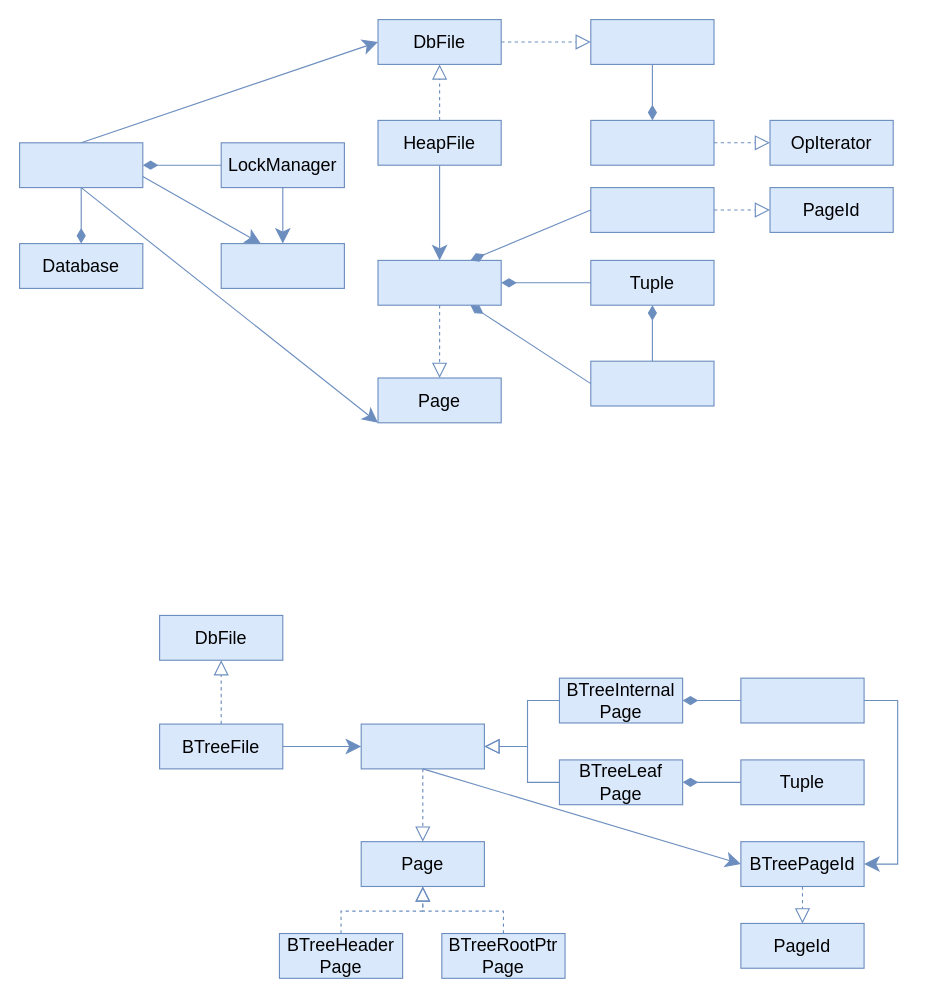
Some shapes in this 932 by 998 pixel diagram are drawn without their labels. Here are the shapes that lost their labels. From the top down, the box of each, then its label:
(590, 18, 714, 64): DbFileIterator
(590, 119, 714, 165): SeqScan
(18, 142, 143, 188): BufferPool
(590, 186, 714, 232): HeapPageId
(220, 242, 344, 288): TransactionId
(377, 259, 501, 305): HeapPage
(590, 360, 714, 406): TupleDesc
(740, 677, 864, 723): BTreeEntry
(360, 723, 484, 769): BTreePage
